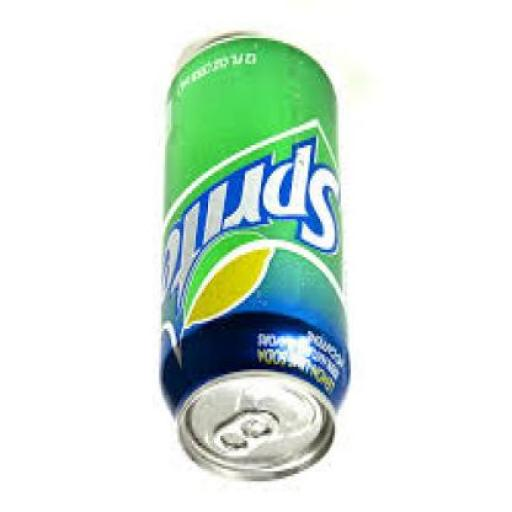metal: (161, 38, 351, 484)
